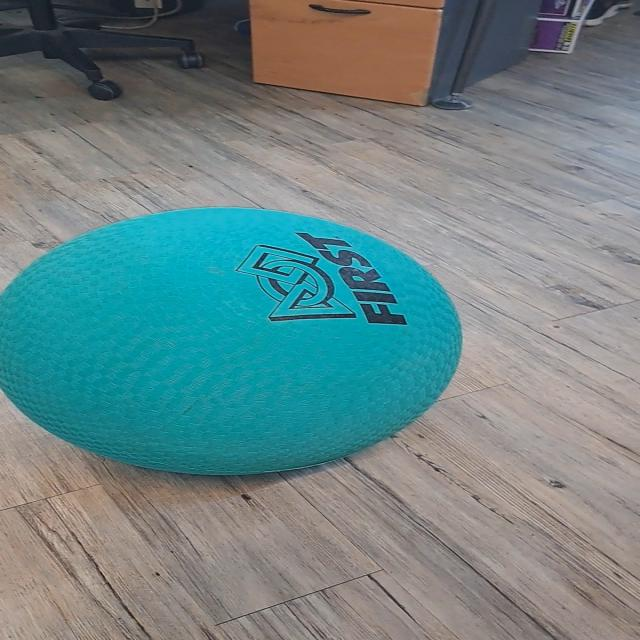ALGAE: (1, 205, 464, 477)
